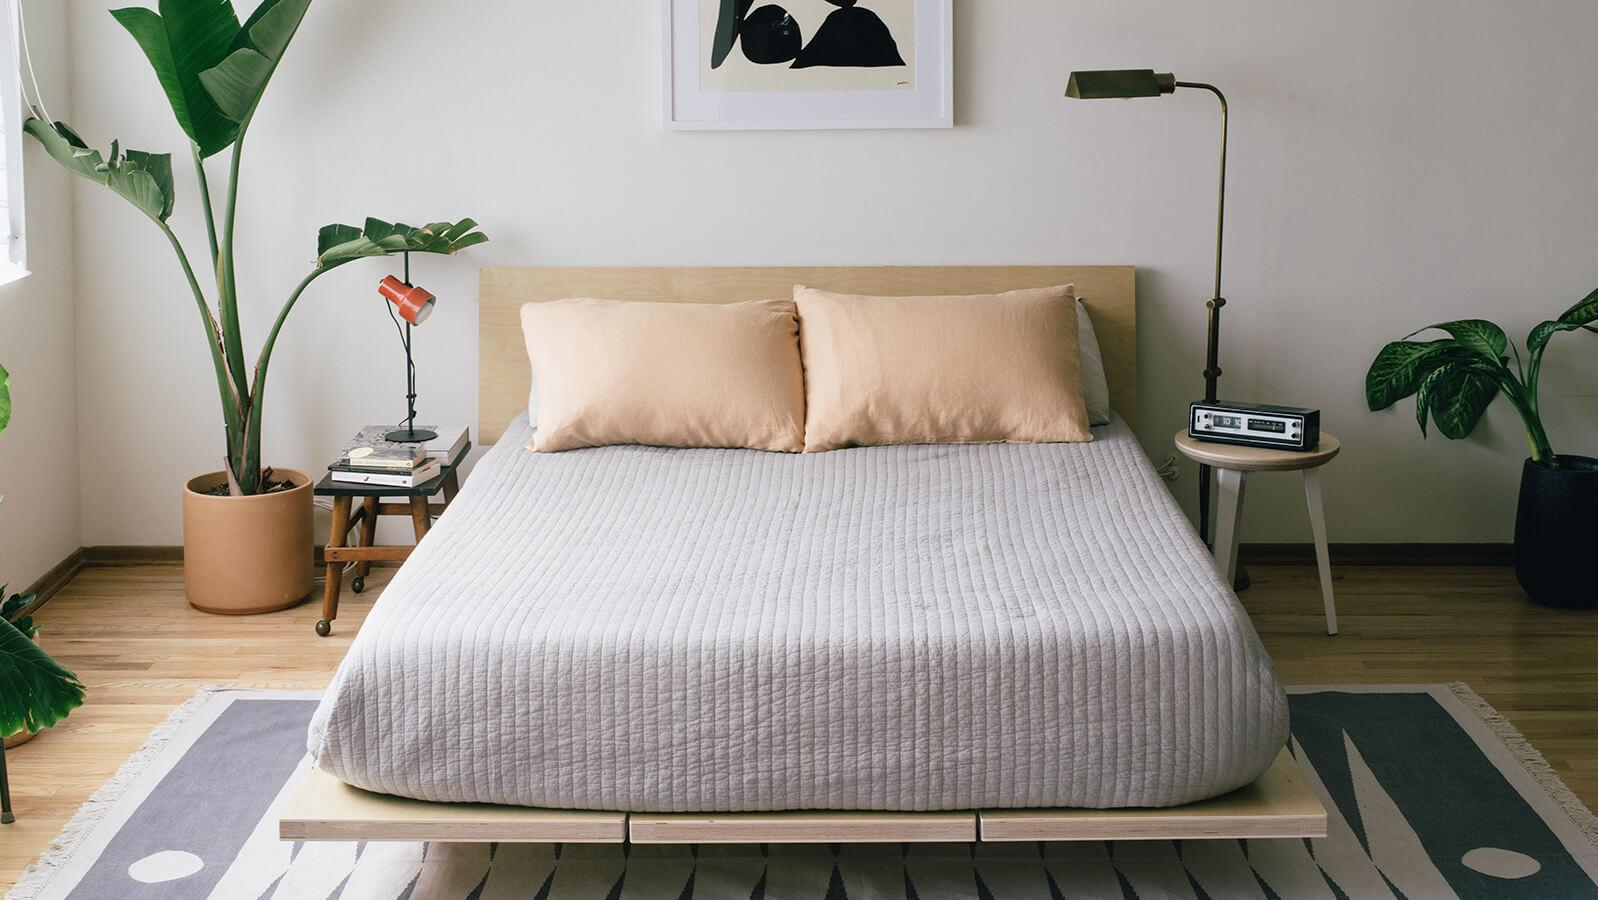bed: (410, 258, 1218, 808)
